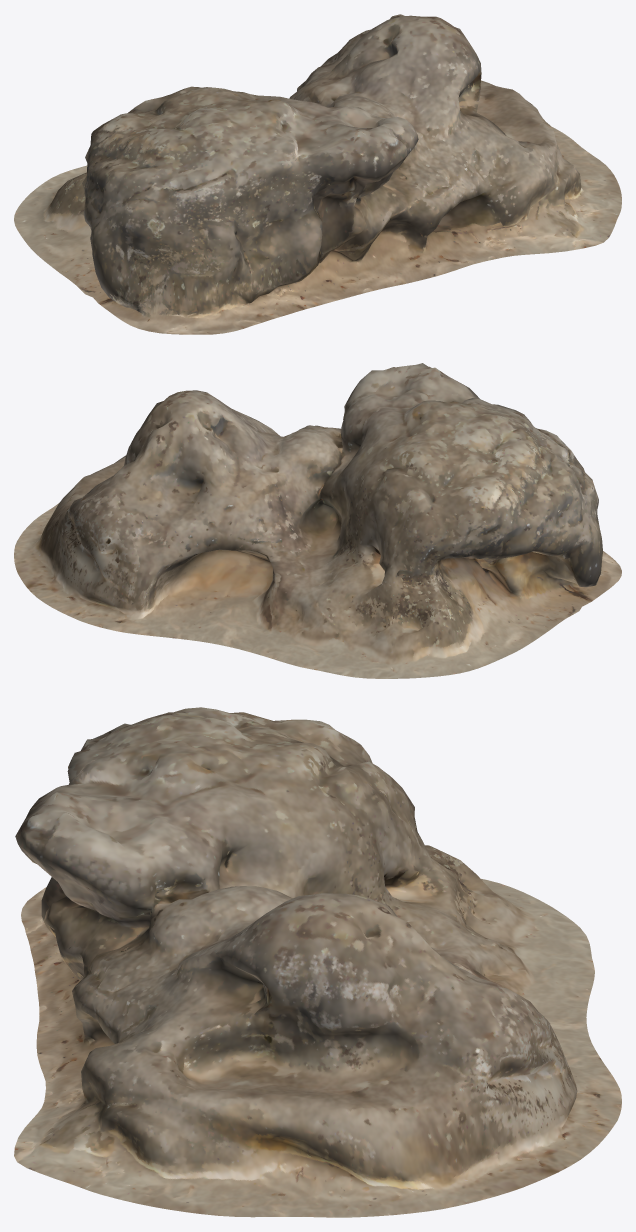
Rendered from Rock_06.FBX.
3 views of the same model, one above another, from view 1: azimuth 30°, elevation 25°; view 2: azimuth 150°, elevation 25°; view 3: azimuth 270°, elevation 25° (orthographic). The views are drawn at different scales.
Visible parts, largest first — view 1: Rock06_LOD0; view 2: Rock06_LOD0; view 3: Rock06_LOD0.
Part boxes in pixels (bbox=[...]): Rock06_LOD0: bbox=[14, 14, 621, 334]; Rock06_LOD0: bbox=[14, 363, 621, 678]; Rock06_LOD0: bbox=[14, 707, 621, 1217].
Size of what is drawn, in the model's own units: 4.12 by 2.96 by 1.2.
1 material, 1 textured.
